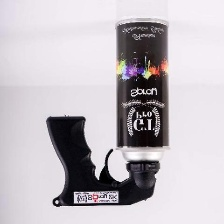aerosol_cans: (111, 14, 171, 186)
